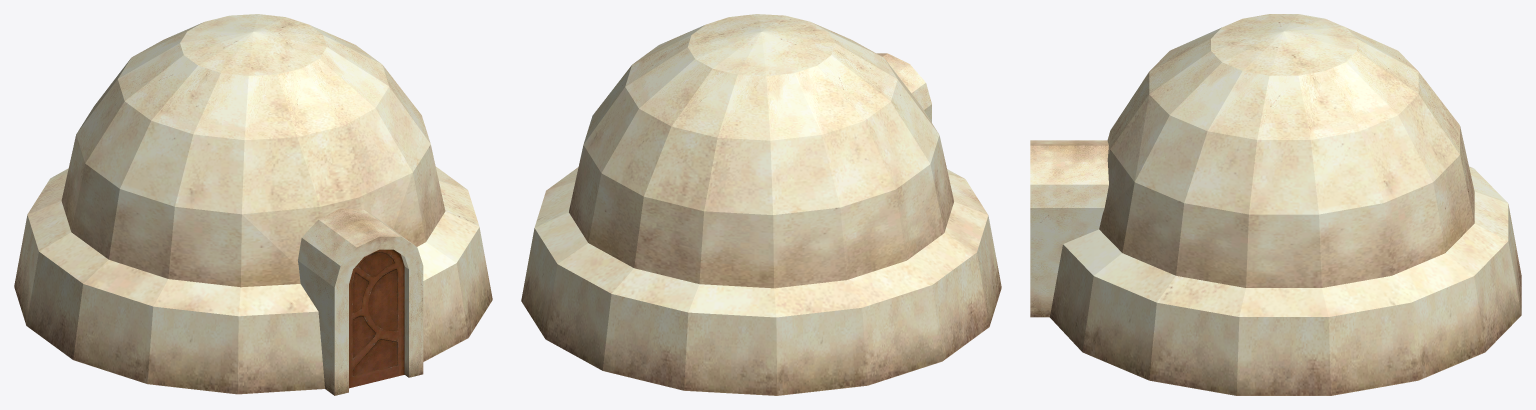
File: thm_tato_sandstone_hovel_s01_l0.fbx
3 views of the same model, side by side, from view 1: azimuth 30°, elevation 25°; view 2: azimuth 150°, elevation 25°; view 3: azimuth 270°, elevation 25° (orthographic).
Visible parts, largest first — view 1: mesh_node; view 2: mesh_node; view 3: mesh_node.
Part boxes in pixels (left/top/right/bottom): mesh_node: left=14, top=14, right=492, bottom=395; mesh_node: left=521, top=14, right=1001, bottom=395; mesh_node: left=1030, top=14, right=1521, bottom=395.
Bounding box in the file's own units: 6.69 × 4.1 × 6.91.
